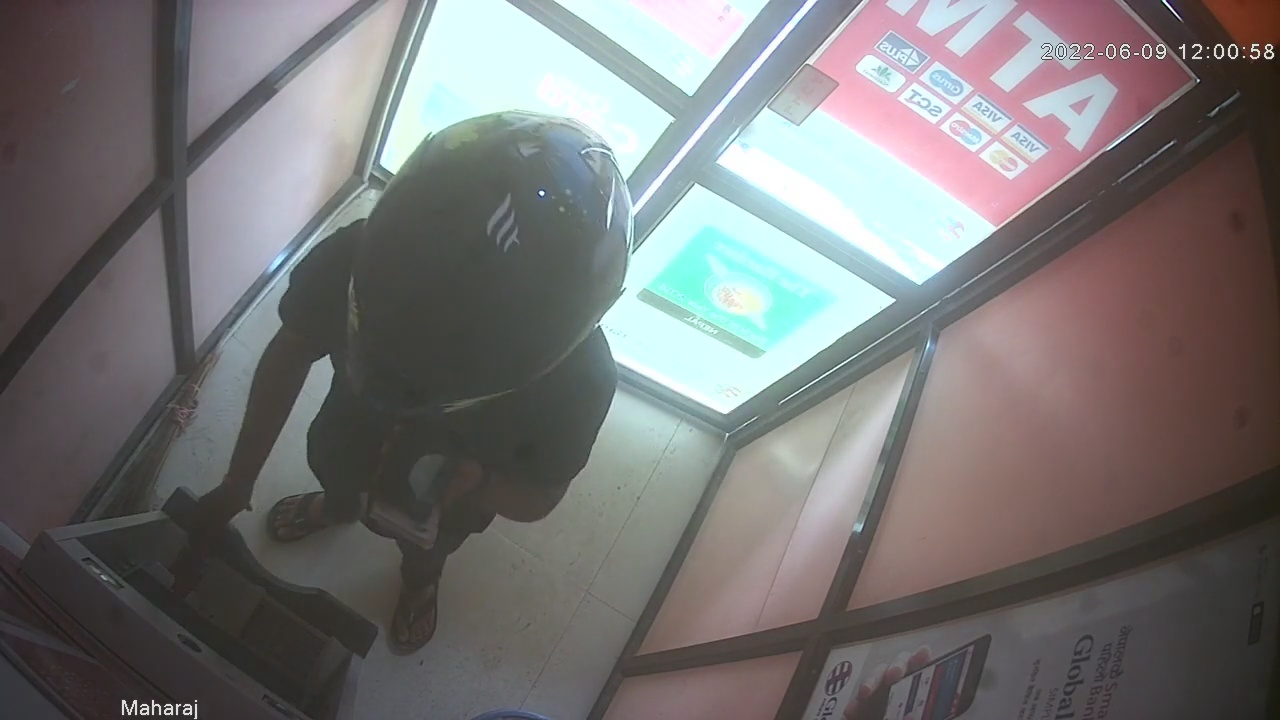helmet: (343, 111, 631, 414)
person: (192, 110, 634, 654)
